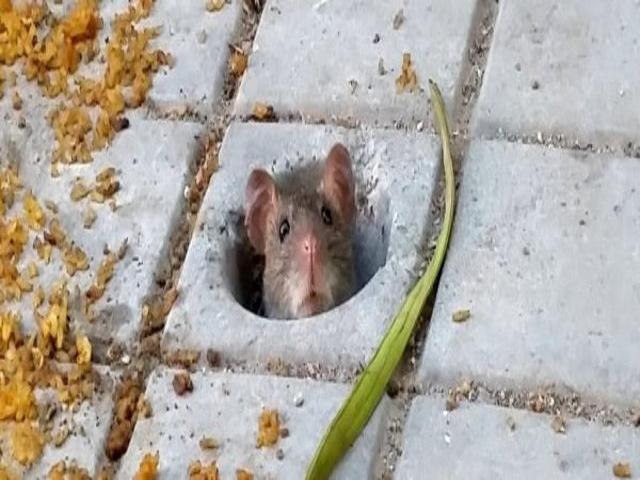Tikus: (238, 144, 378, 311)
